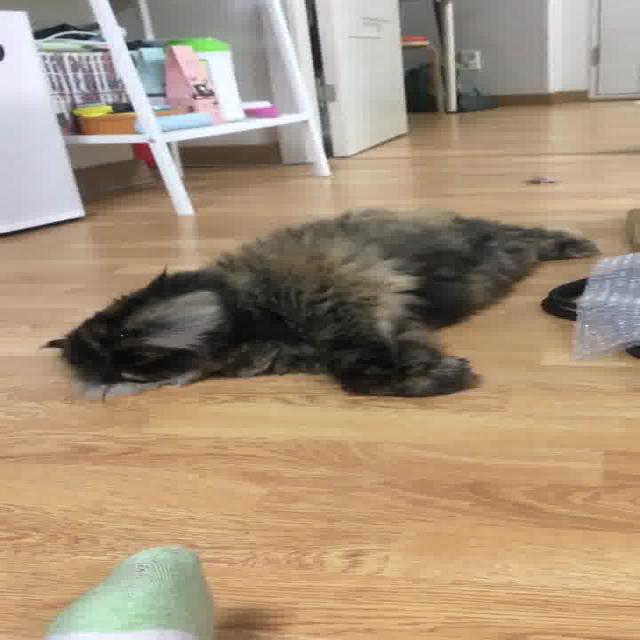cat: (44, 199, 604, 400)
